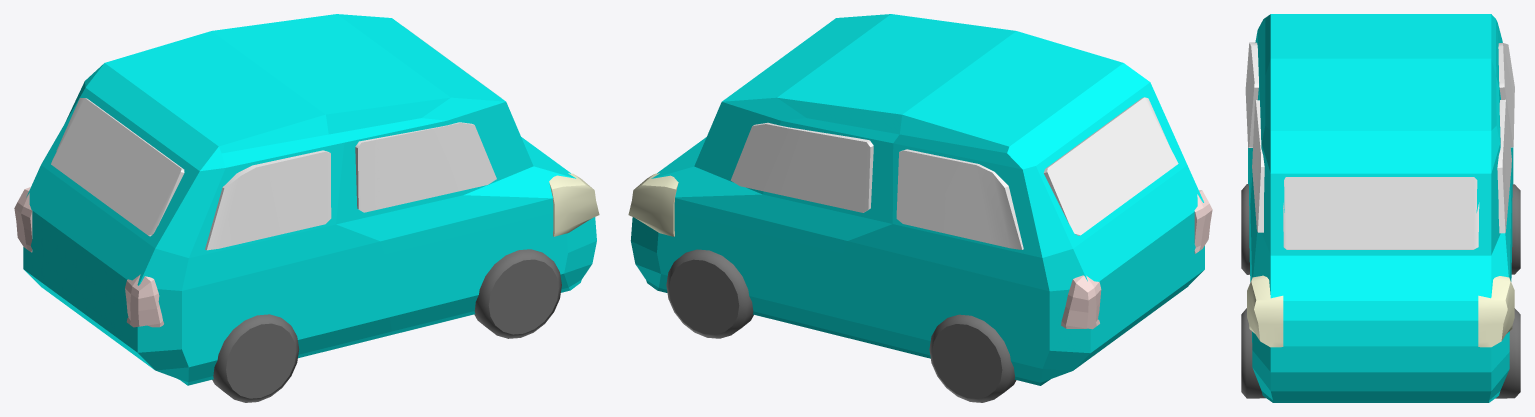
Rendered from CarroAzul.fbx.
The picture shows the model from 3 angles, left to right: view 1: azimuth 30°, elevation 25°; view 2: azimuth 150°, elevation 25°; view 3: azimuth 270°, elevation 25°; orthographic projection. The views are drawn at different scales.
Visible parts, largest first — view 1: pCube1, pCube10, pCube8, pCube7, pCylinder1, pCylinder2, pCube11, pCube9; view 2: pCube1, pCube10, pCube12, pCube4, pCylinder3, pCylinder4, pCube11, pCube9; view 3: pCube1, pCube6, pCube9, pCube12, pCube8, pCylinder3, pCylinder1, pCube4, pCube7, pCylinder4, pCylinder2.
Part boxes in pixels (box(x1,y1,x2,y2)): pCube1: box(23, 14, 596, 385); pCube10: box(51, 98, 184, 236); pCube8: box(355, 122, 496, 212); pCube7: box(205, 150, 331, 250); pCylinder1: box(474, 249, 561, 338); pCylinder2: box(212, 314, 299, 402); pCube11: box(14, 187, 163, 327); pCube9: box(549, 173, 599, 236); pCube1: box(630, 14, 1204, 385); pCube10: box(1043, 97, 1178, 235); pCube12: box(730, 122, 873, 212); pCube4: box(896, 149, 1023, 249); pCylinder3: box(666, 249, 753, 338); pCylinder4: box(929, 314, 1016, 402); pCube11: box(1061, 190, 1212, 329); pCube9: box(628, 173, 678, 236); pCube1: box(1248, 14, 1513, 402); pCube6: box(1283, 177, 1479, 249); pCube9: box(1247, 275, 1514, 347); pCube12: box(1497, 99, 1511, 233); pCube8: box(1252, 100, 1264, 232); pCylinder3: box(1495, 308, 1520, 398); pCylinder1: box(1241, 308, 1265, 398); pCube4: box(1498, 42, 1514, 147); pCube7: box(1245, 42, 1258, 147); pCylinder4: box(1511, 184, 1520, 274); pCylinder2: box(1241, 184, 1249, 274).
Size of the model in its own units: 20.49 by 10.94 by 11.09.
